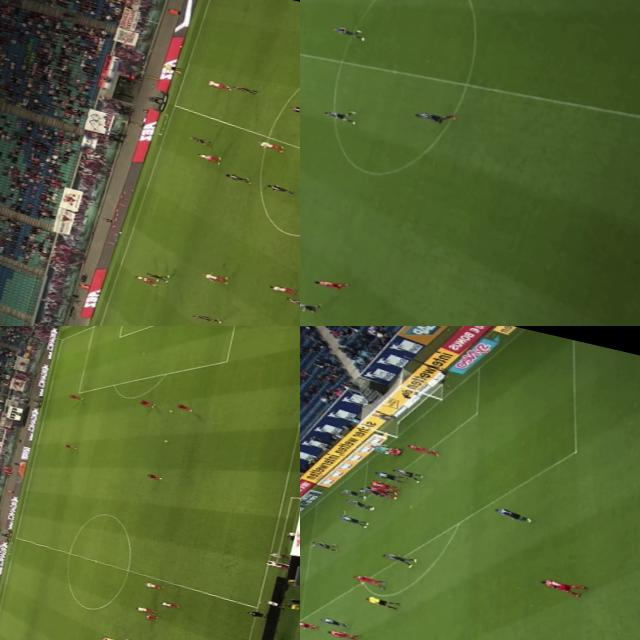ball: (158, 438, 170, 443), (166, 408, 174, 414)
player: (536, 574, 584, 598), (407, 106, 454, 126), (493, 504, 533, 524), (327, 24, 365, 44), (377, 550, 416, 568), (404, 441, 442, 459), (322, 107, 358, 125), (334, 509, 368, 528), (308, 276, 348, 292), (348, 572, 383, 588), (371, 466, 401, 484), (389, 467, 424, 482), (364, 483, 395, 499), (307, 537, 337, 553), (188, 310, 222, 324), (356, 484, 387, 499), (323, 627, 358, 640), (318, 614, 346, 630), (255, 139, 285, 153), (342, 498, 372, 512), (366, 478, 396, 492), (203, 77, 232, 91), (186, 134, 214, 148), (364, 440, 392, 454), (264, 182, 294, 194), (194, 150, 221, 163), (338, 486, 365, 499), (266, 282, 295, 294), (130, 602, 158, 614), (140, 579, 165, 592), (130, 274, 157, 286), (222, 172, 248, 184), (154, 599, 180, 611), (143, 271, 169, 282), (200, 272, 227, 282), (300, 300, 320, 313), (283, 294, 300, 309), (170, 401, 193, 412), (384, 444, 402, 458), (230, 84, 255, 94), (64, 390, 86, 401), (134, 398, 153, 410), (300, 616, 315, 630), (286, 104, 300, 117), (61, 442, 78, 452), (140, 613, 157, 621), (144, 473, 160, 480), (95, 635, 117, 640), (125, 638, 142, 640)
